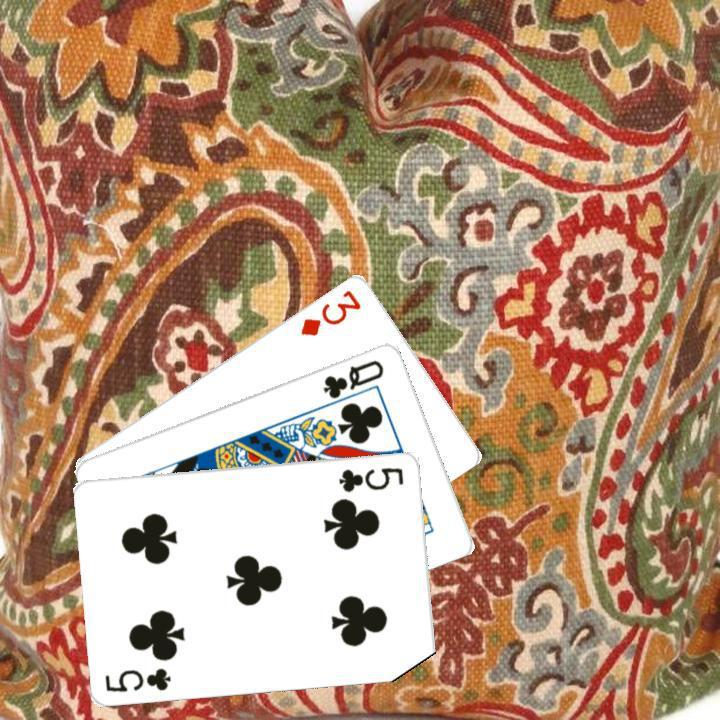3: (296, 284, 364, 338)
5: (335, 462, 406, 494), (101, 663, 174, 694)
Q: (318, 355, 386, 400)
